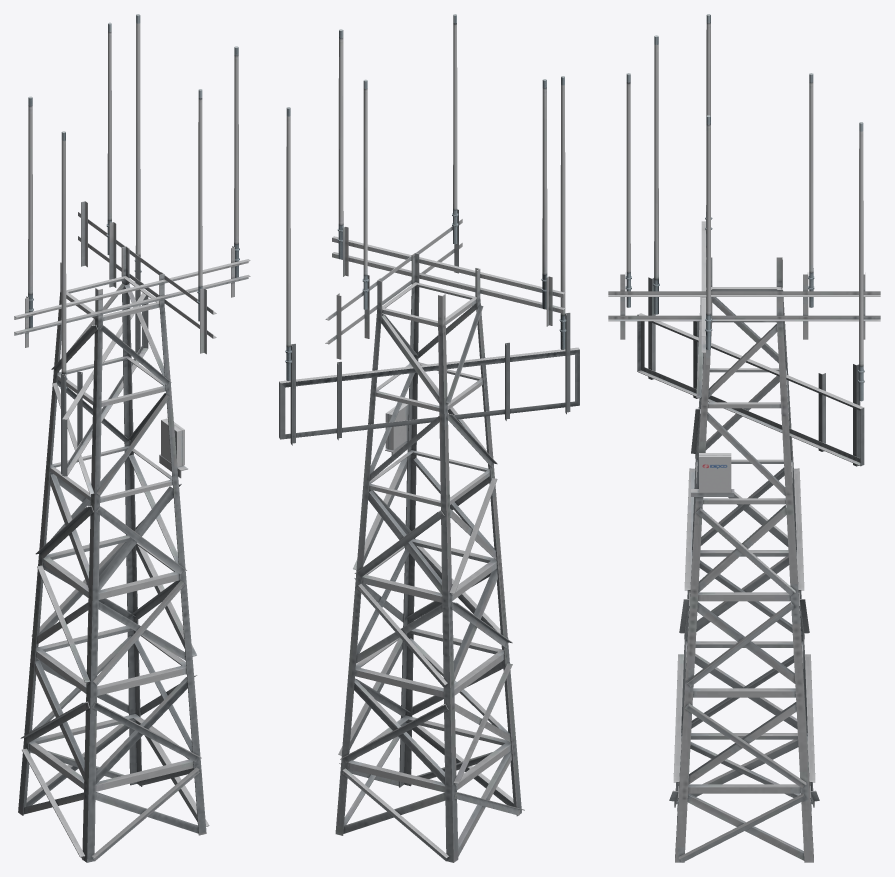
The model's file is transmission_Tower03.gltf.
3 renders of one model, left to right at view 1: azimuth 30°, elevation 25°; view 2: azimuth 150°, elevation 25°; view 3: azimuth 270°, elevation 25°, orthographic.
Visible parts, largest first — view 1: tower03; view 2: tower03; view 3: tower03.
Boxes of the visible parts, x1=… form: tower03: x1=14, y1=14, x2=250, y2=862; tower03: x1=279, y1=14, x2=579, y2=862; tower03: x1=608, y1=14, x2=880, y2=862.
Size of the model in its own units: 62.33 by 195 by 62.33.
Materials: 1 (1 with a texture image).
